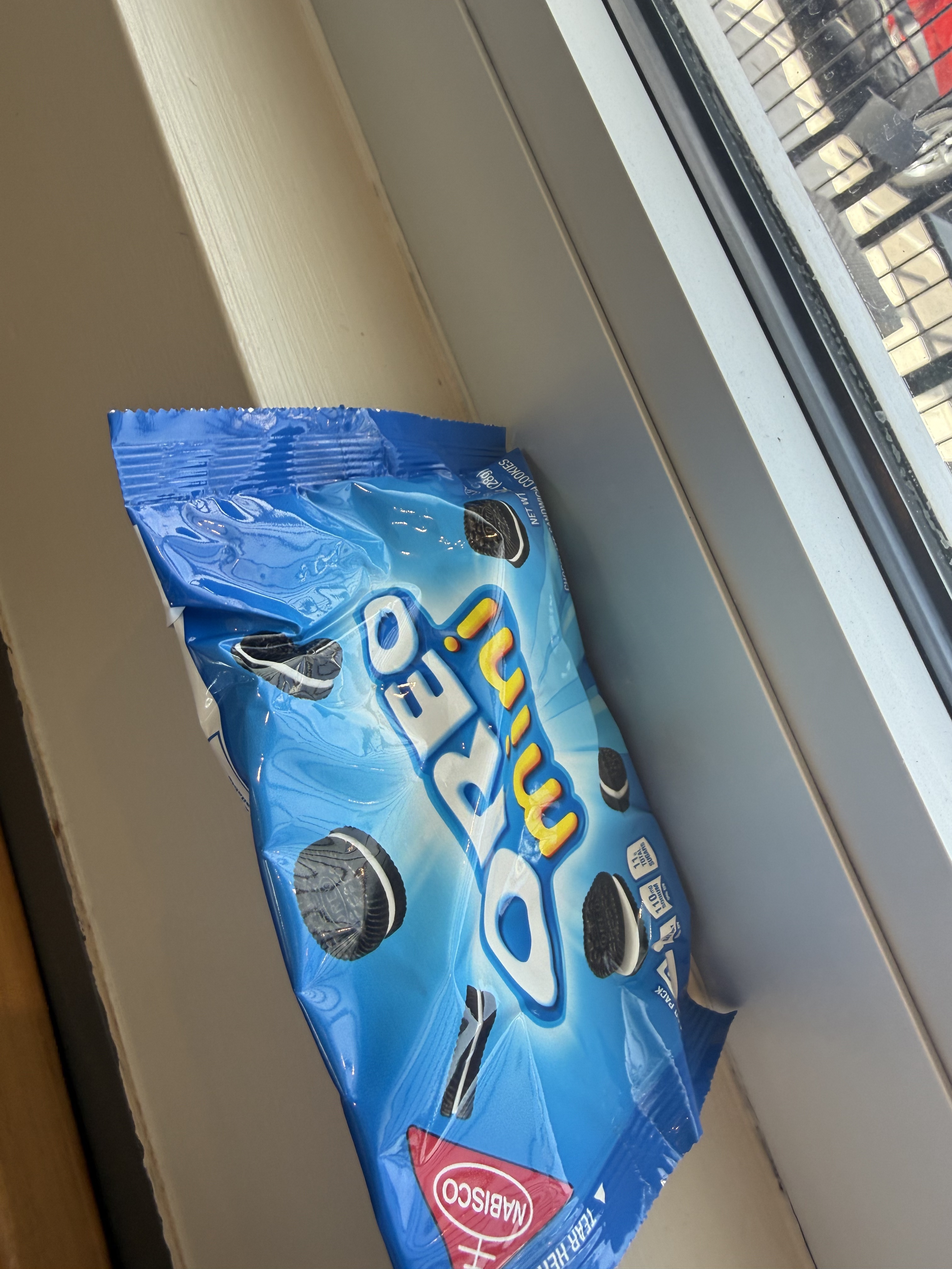oreo_mini: (89, 334, 758, 1264)
